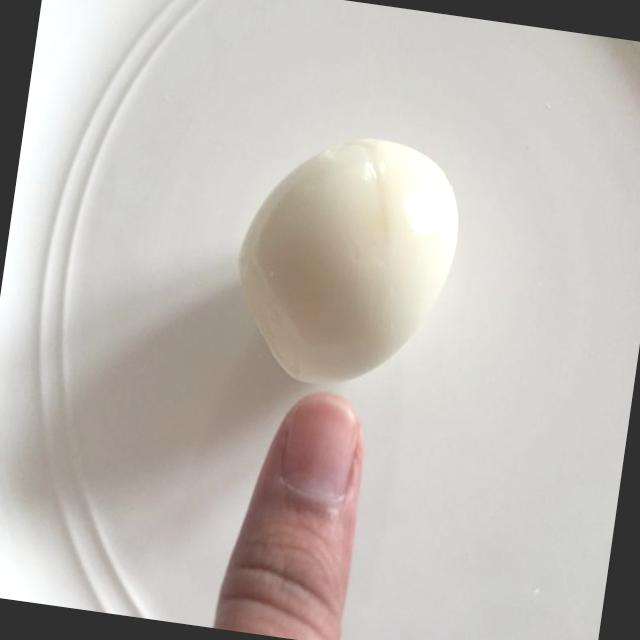Egg: (213, 105, 492, 408)
Finger: (198, 377, 390, 640)
